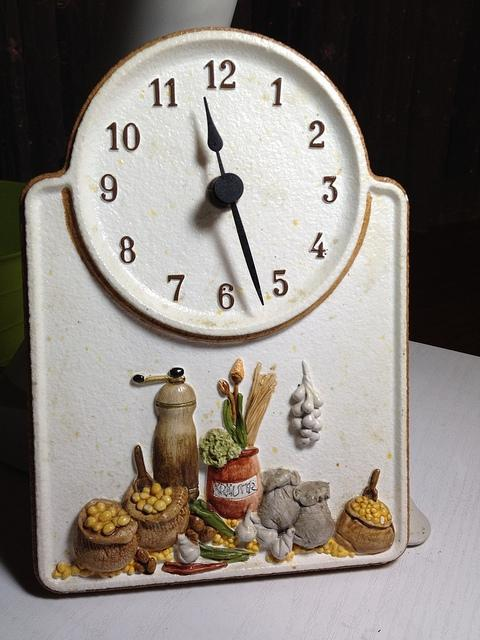garlic: (305, 379, 324, 408), (302, 382, 314, 413), (292, 394, 306, 417), (292, 383, 306, 401), (302, 412, 316, 428), (291, 416, 304, 429), (312, 418, 324, 432), (300, 426, 312, 438), (299, 434, 310, 445), (310, 430, 320, 442), (312, 408, 321, 418)
